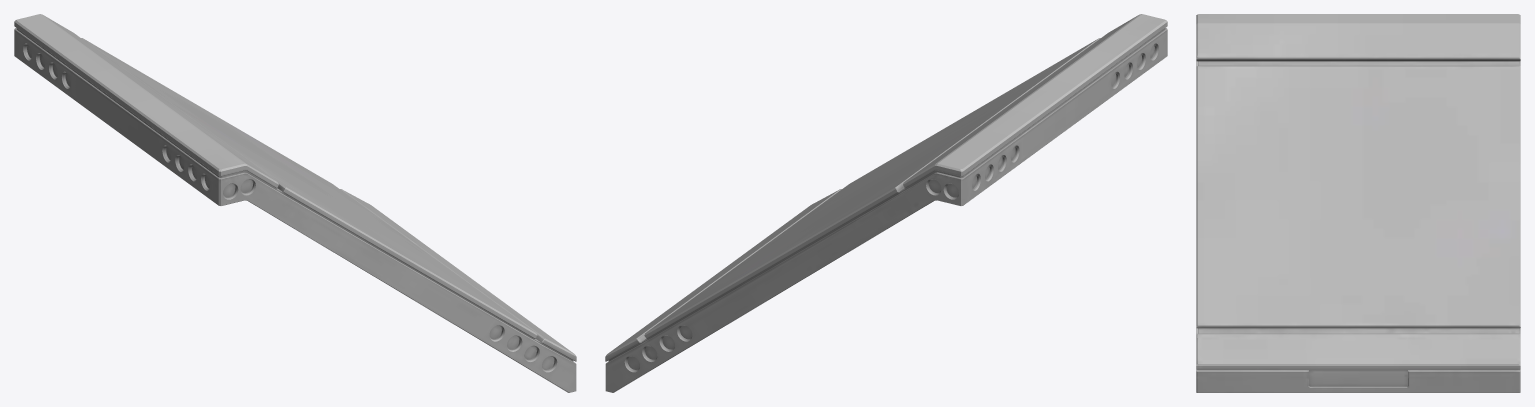
File: SM_RoofB_SF_ab4974.glb
The picture shows the model from 3 angles, left to right: view 1: azimuth 30°, elevation 25°; view 2: azimuth 150°, elevation 25°; view 3: azimuth 270°, elevation 25°; orthographic projection. The views are drawn at different scales.
Size of the model in its own units: 4 by 3.3 by 4.
1 material, 1 textured.
